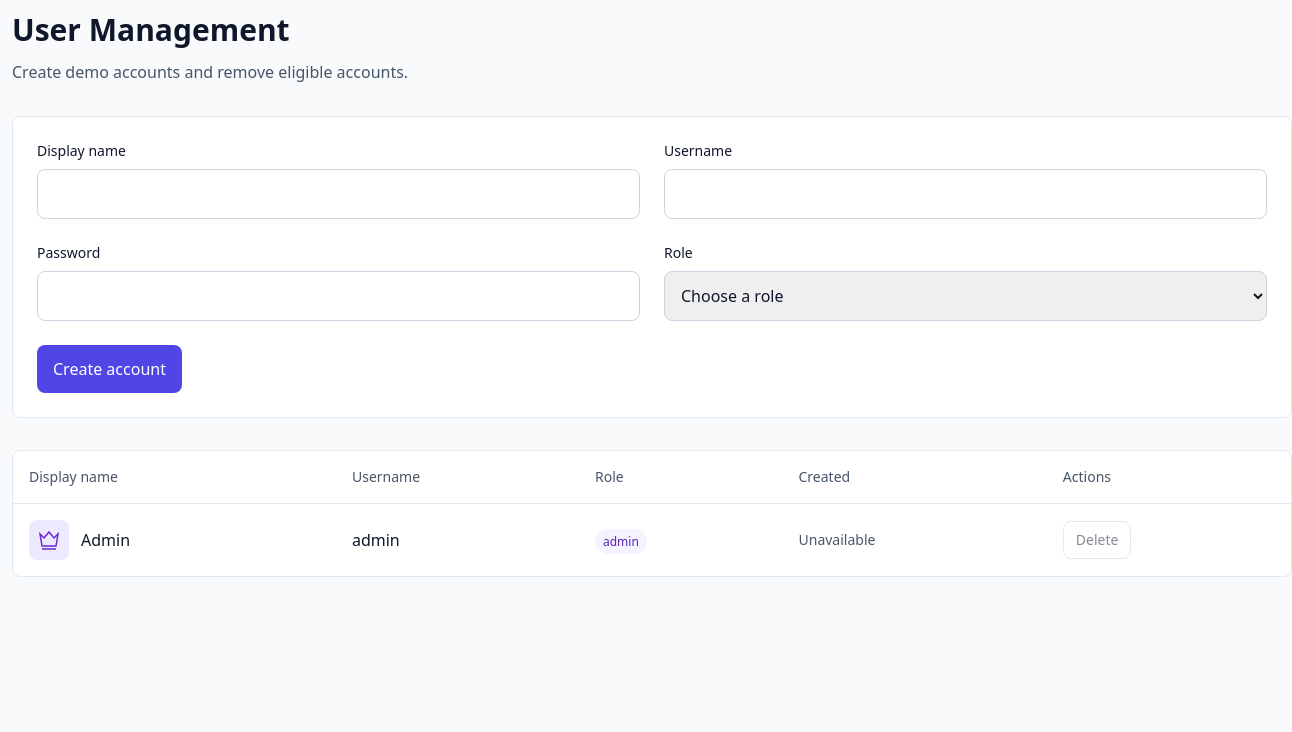
Test: rejects blank role and retains dirty input
Type "Alex" into the field labelled "Display name".
click(338, 194); type("Alex")  # box [37,169,640,219]
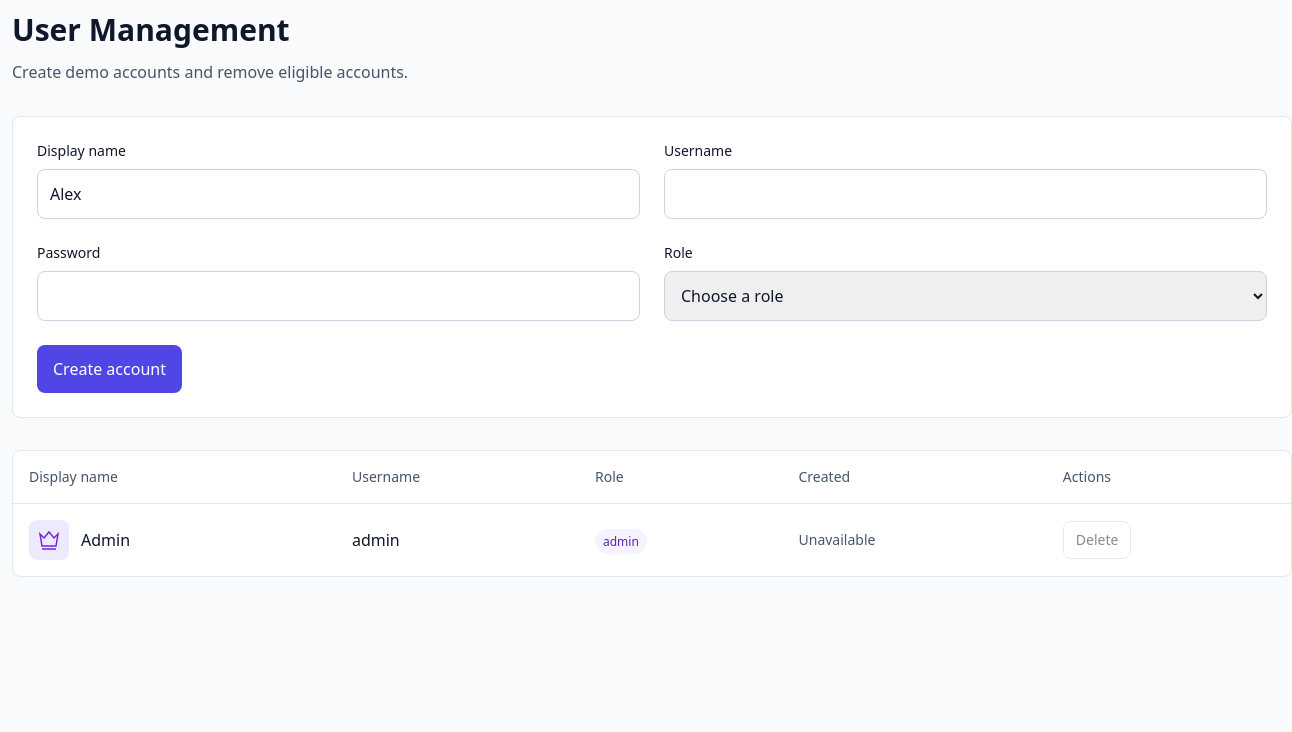
Type "alex" into the field labelled "Username".
click(966, 194); type("alex")  # box [664,169,1267,219]
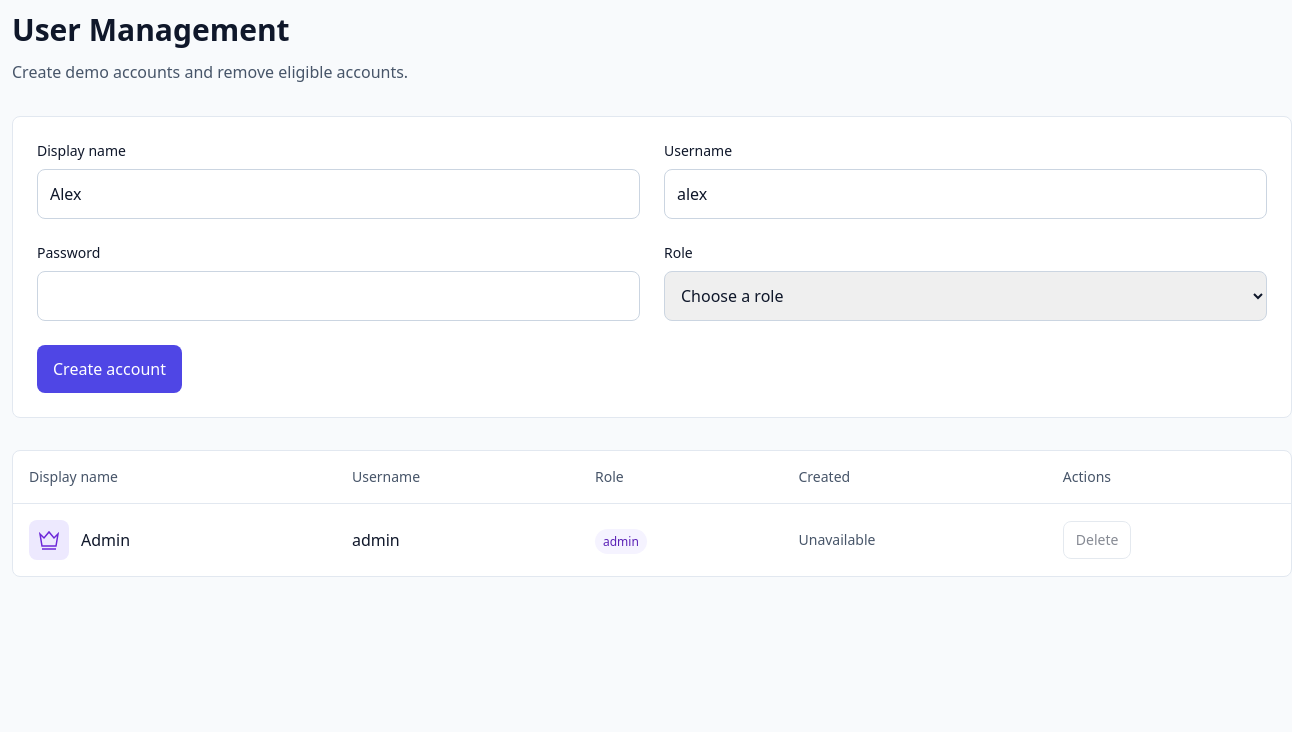
Type " demo " into the password field labelled "Password".
click(338, 296); type(" demo ")  # box [37,271,640,321]
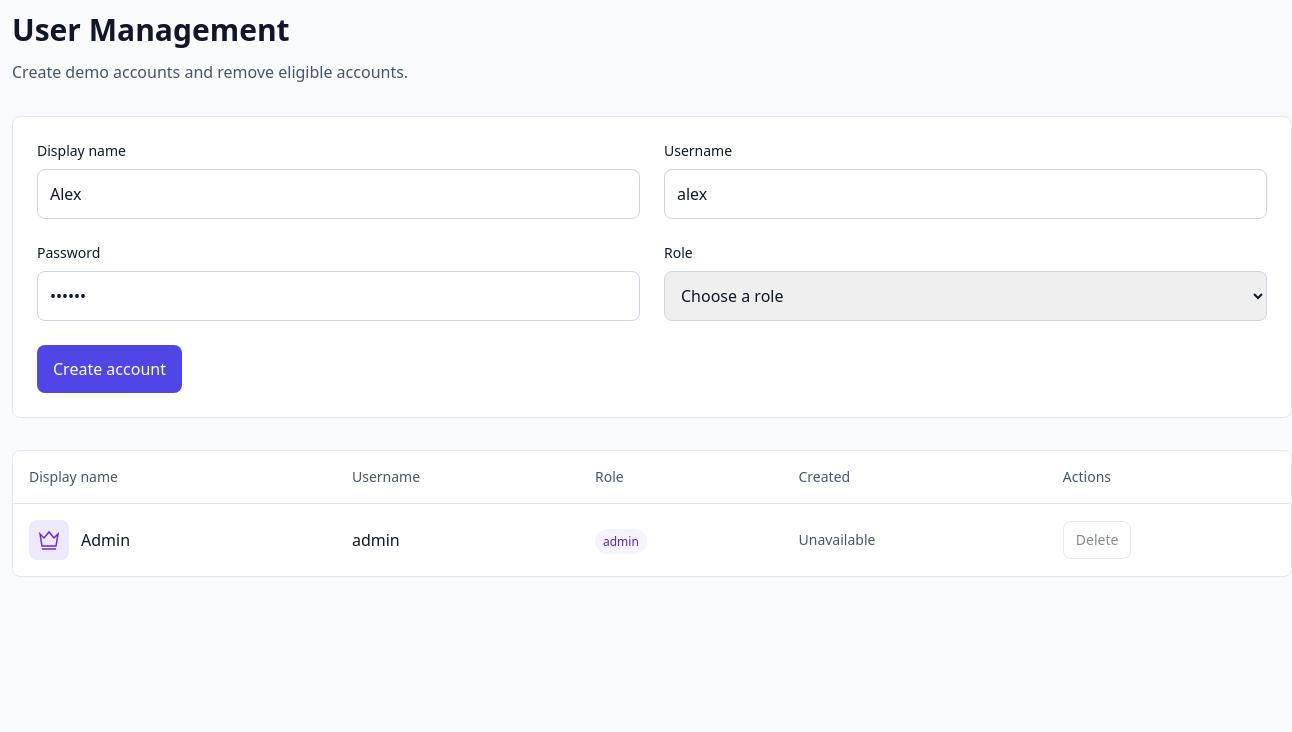
Select "Choose a role" in the dropdown labelled "Role" at (966, 296), box [664,271,1267,321]
Submit the form "Create account", box [12,116,1291,418]
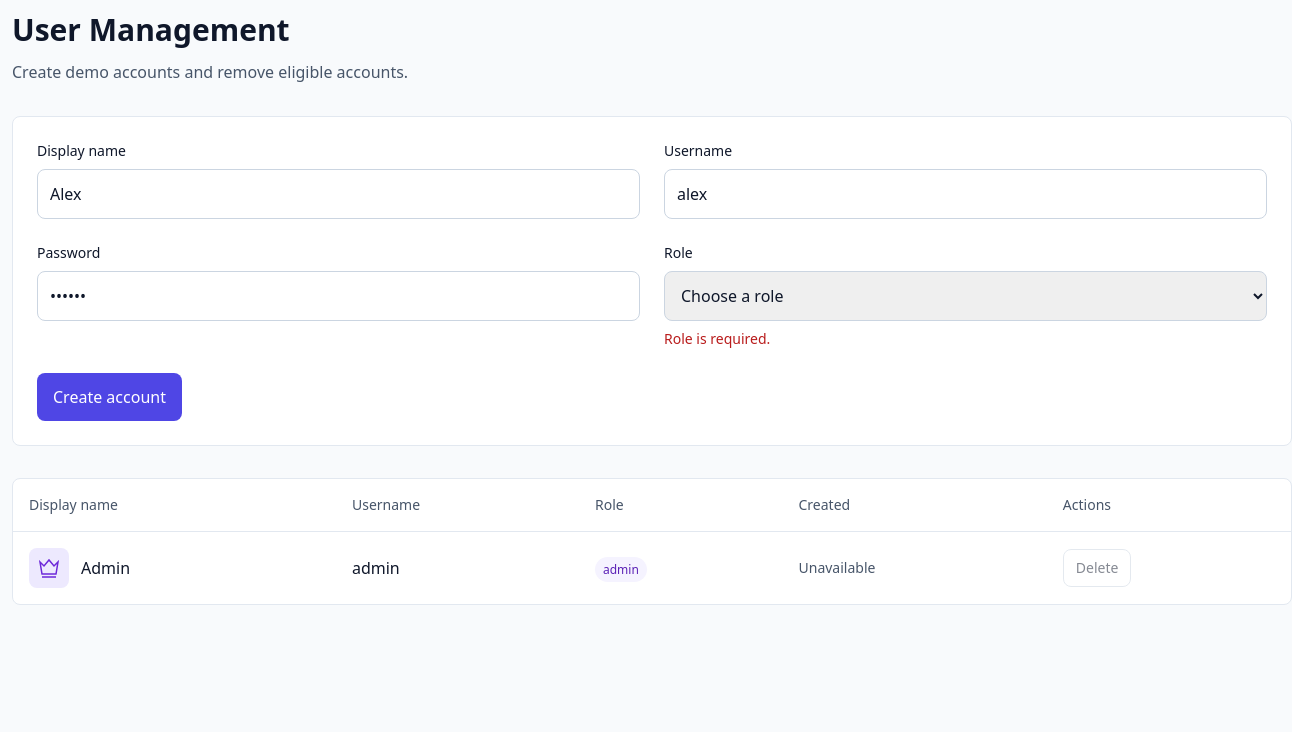
Check: the message shows "is required.", box [664,329,770,348]
